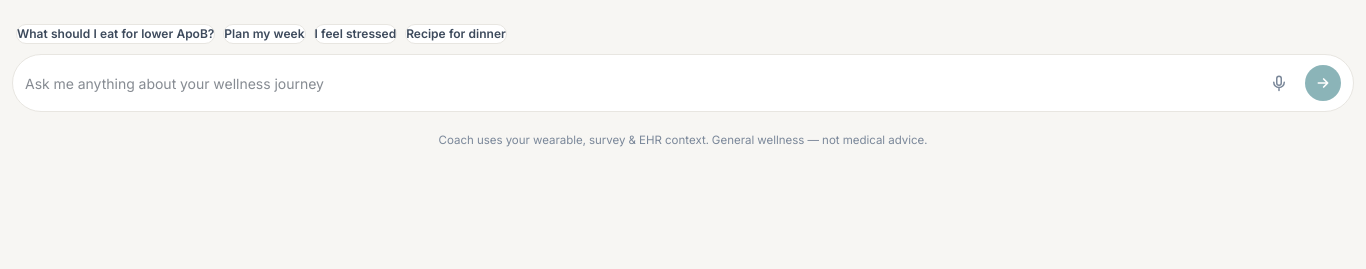
Test: CoachChat › shows a TypingIndicator while waiting for first token
This screenshot has width=1366, height=269.
Type "Hello" into the field with placeholder "Ask me anything about your wellness journey".
click(639, 83); type("Hello")  # box top-left (25, 72), bottom-right (1253, 94)
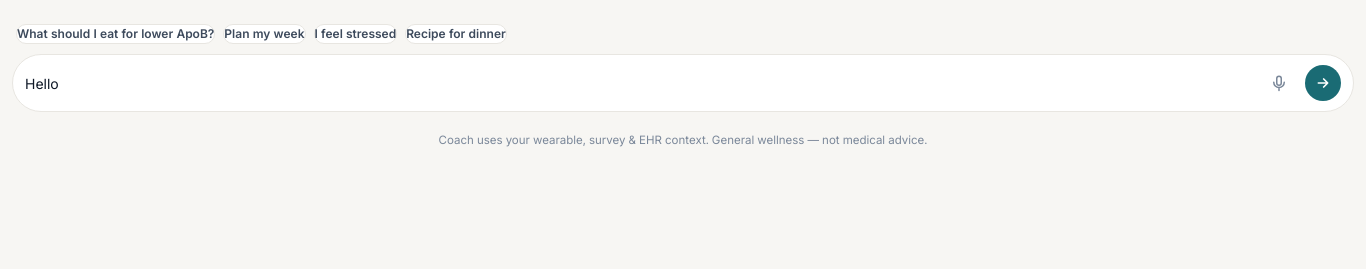
Submit the form with placeholder "ask me anything", box top-left (12, 54), bottom-right (1354, 112)
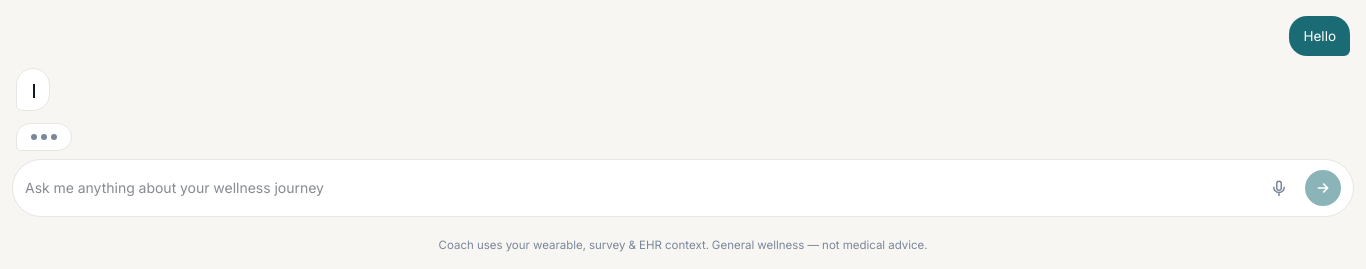
Now the message named "ai is typing" is shown, box top-left (16, 122), bottom-right (72, 150)
